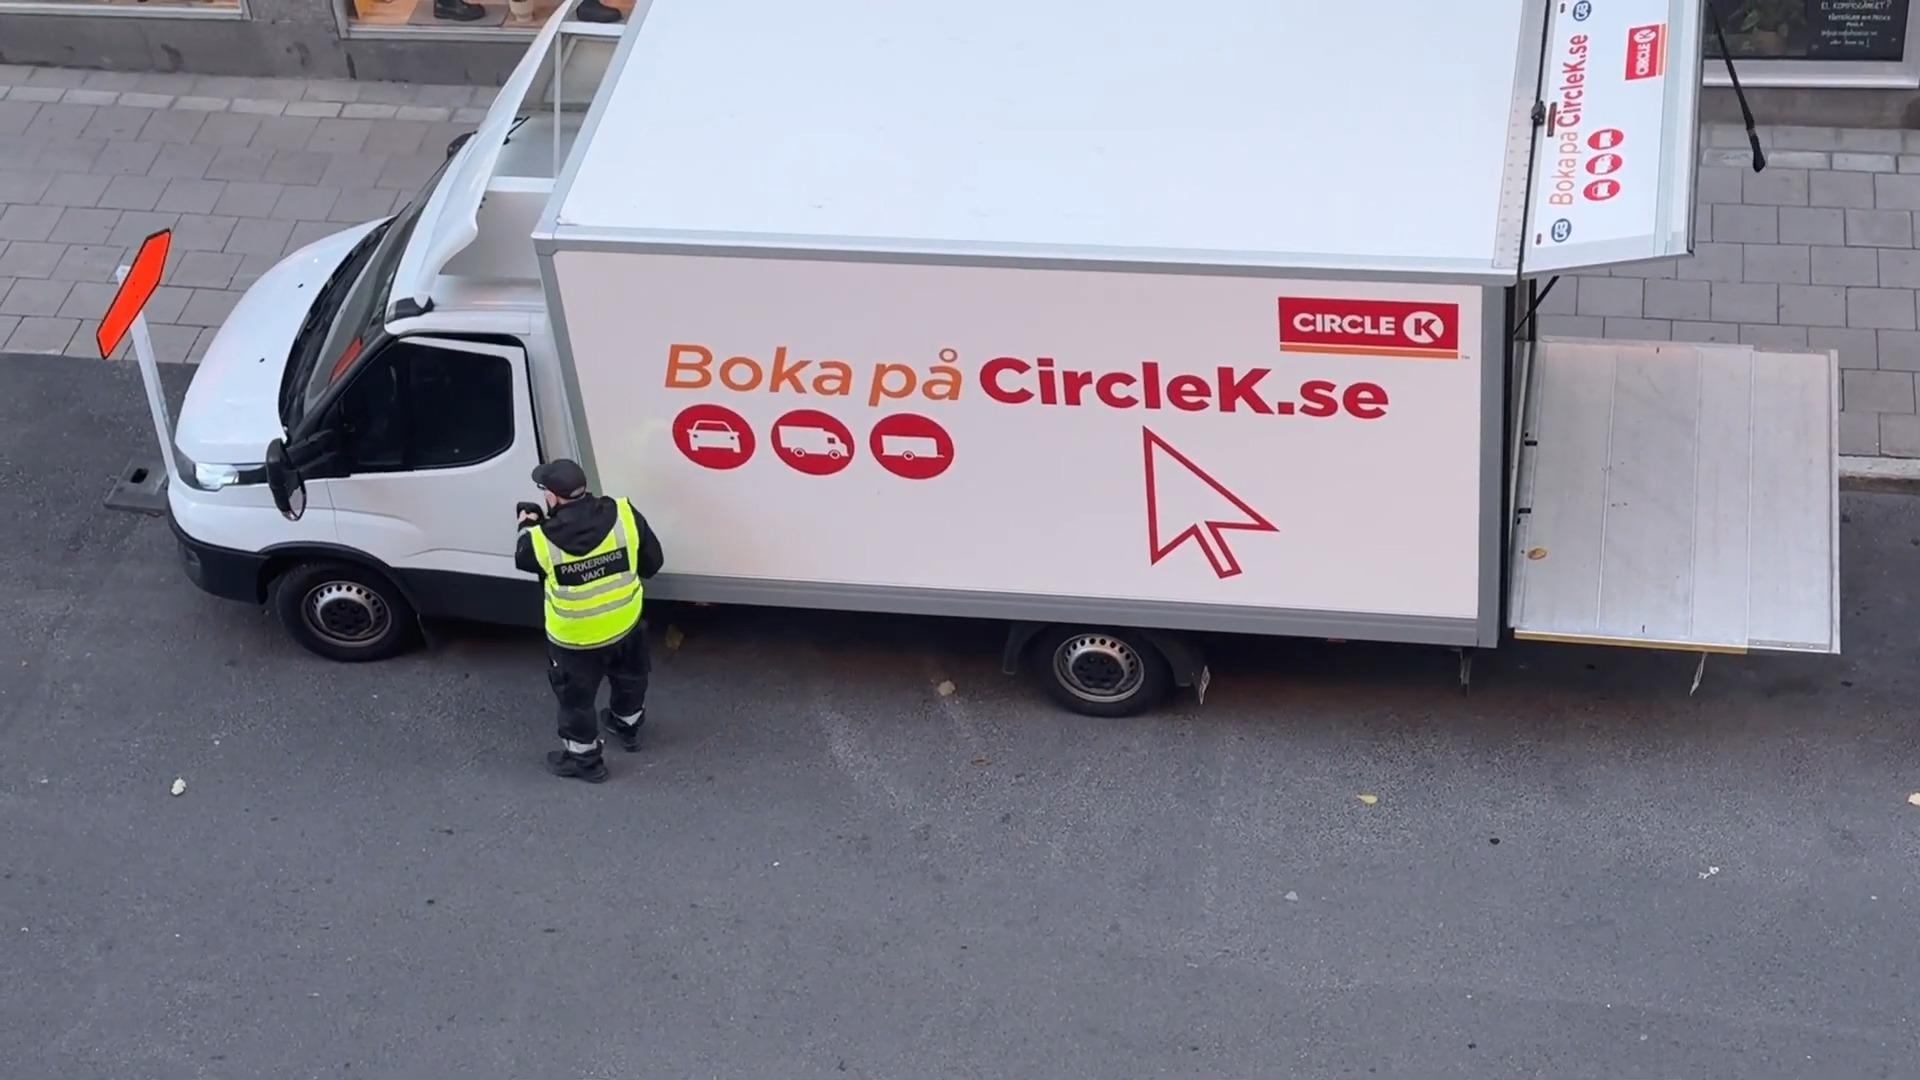parking-attendant: (516, 459, 663, 782)
